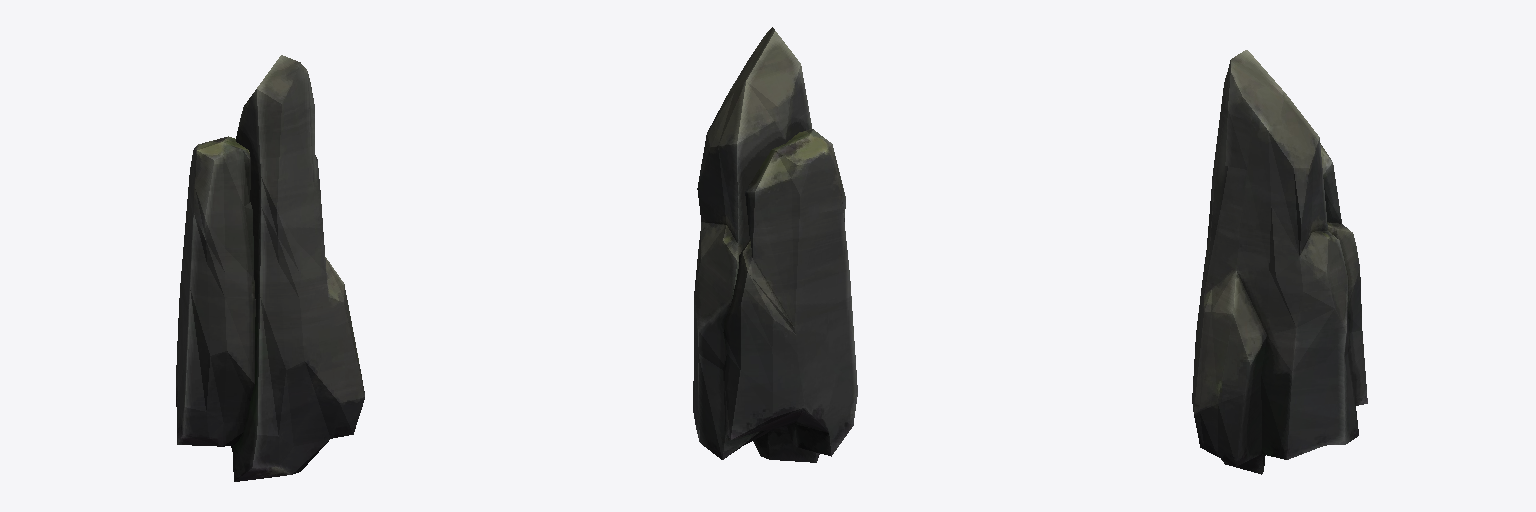
The picture shows the model from 3 angles: view 1: azimuth 30°, elevation 25°; view 2: azimuth 150°, elevation 25°; view 3: azimuth 270°, elevation 25°; orthographic projection.
Visible parts, largest first — view 1: Bush:Rock_4:Mesh; view 2: Bush:Rock_4:Mesh; view 3: Bush:Rock_4:Mesh.
Part boxes in pixels (x1,y1,x2,y2): Bush:Rock_4:Mesh: (176,55,364,481); Bush:Rock_4:Mesh: (693,27,857,462); Bush:Rock_4:Mesh: (1192,50,1367,474).
Bounding box in the file's own units: 0.8592 × 2.15 × 0.8124.
1 materials, 1 textured.